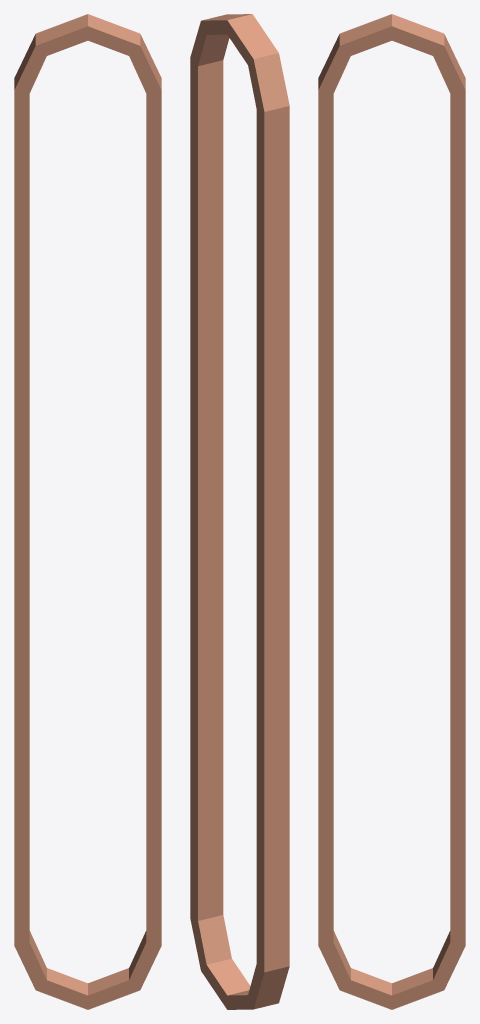
File: LightRopeMechMediumBeltDrive1.fbx
3 views of the same model, side by side, from view 1: azimuth 90°, elevation 25°; view 2: azimuth 210°, elevation 25°; view 3: azimuth 270°, elevation 25° (orthographic).
Visible parts, largest first — view 1: LightRopeMechMediumBeltDrive1; view 2: LightRopeMechMediumBeltDrive1; view 3: LightRopeMechMediumBeltDrive1.
Boxes of the visible parts, x1,y1,x2,y2 form: LightRopeMechMediumBeltDrive1: (14,14,161,1009); LightRopeMechMediumBeltDrive1: (190,14,289,1009); LightRopeMechMediumBeltDrive1: (318,14,465,1009).
Bounding box in the file's own units: 22.29 × 832 × 113.
